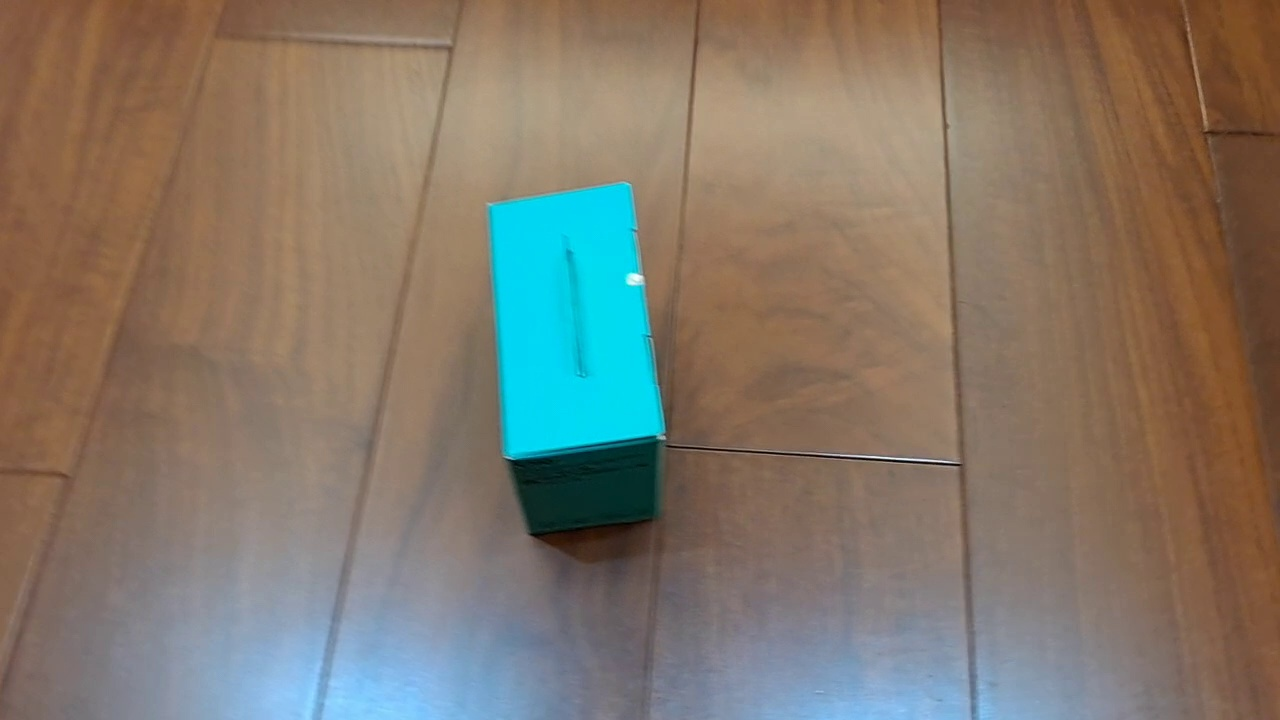webcam: (483, 180, 667, 536)
